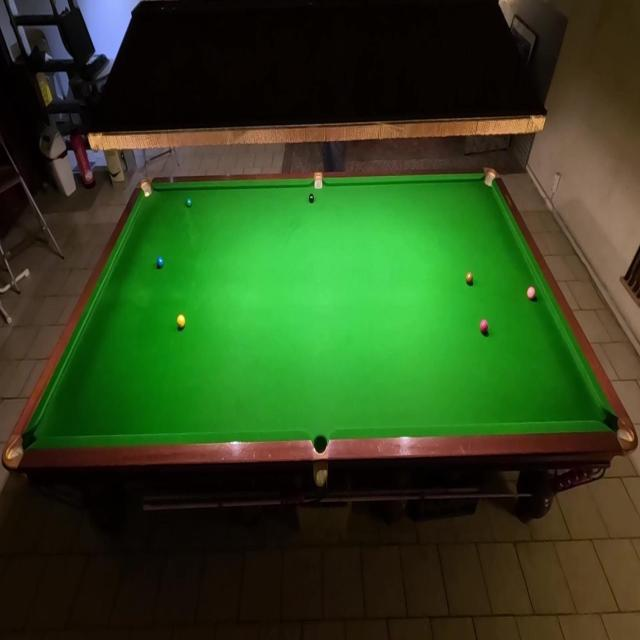Ball: (526, 286, 536, 300), (177, 314, 186, 329), (480, 320, 488, 334), (466, 272, 474, 286), (156, 256, 164, 268), (308, 194, 314, 204), (186, 197, 192, 207), (144, 192, 150, 196)
